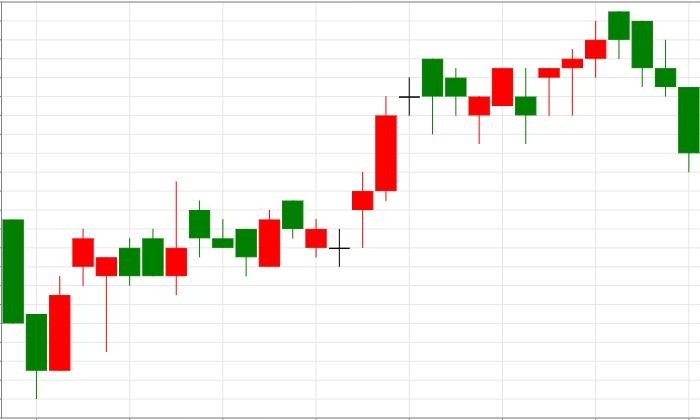three_black_crows_fall: (514, 10, 700, 173)
